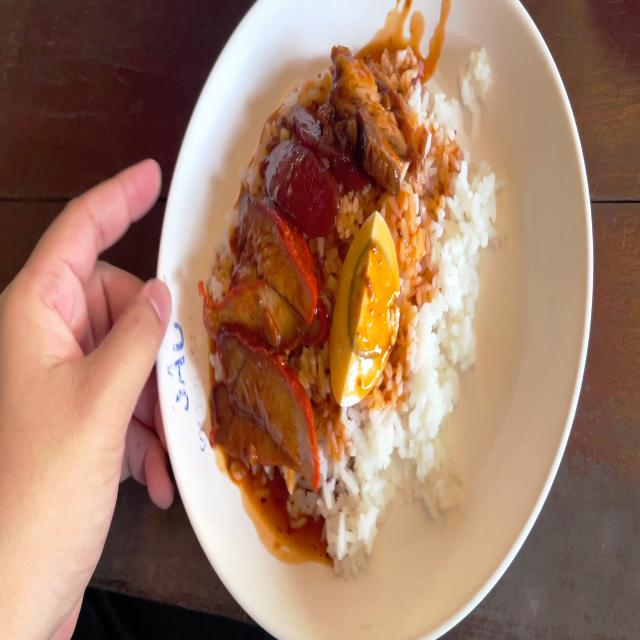boiled_egg: (331, 218, 399, 398)
chainese_sausage: (266, 113, 348, 226)
crispy_pork: (332, 46, 421, 176)
red_pork: (215, 201, 325, 486)
red_pork_and_crispy_pork: (217, 51, 480, 524)
rice: (414, 88, 476, 471), (331, 403, 405, 538)
